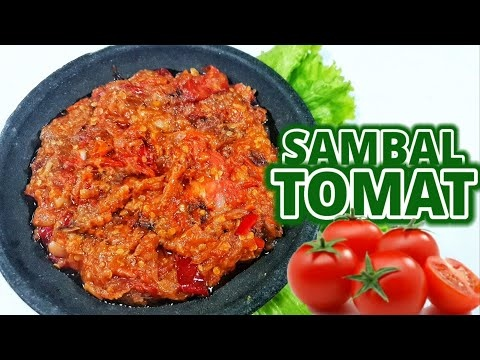sambal: (20, 63, 284, 304)
